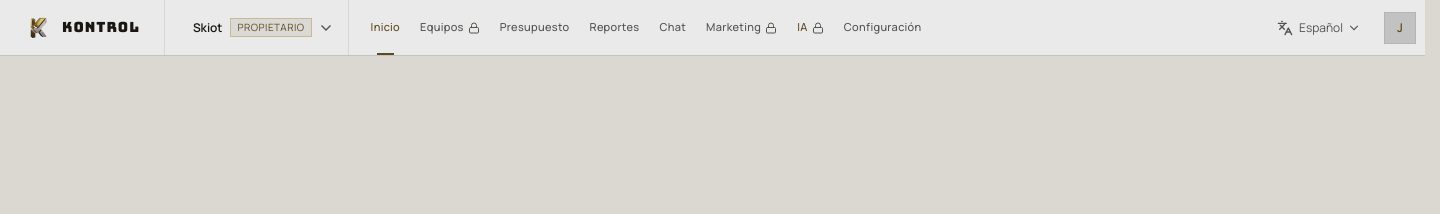
Test case: AppNavbar.vue — sesión e idioma › el avatar abre el menú de cuenta en vez de cerrar sesión de golpe
Click the button with class "appnav-avatar".
click(1400, 28)  # box [1384,12,1416,44]
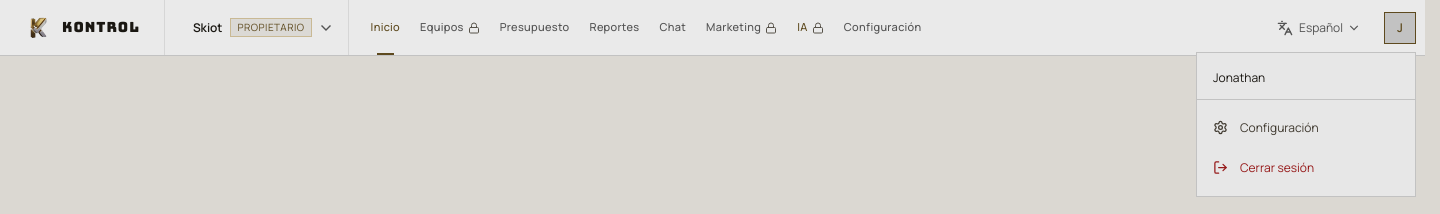
Now the menu with class "user-dropdown" is shown, box [1196,52,1416,196]
